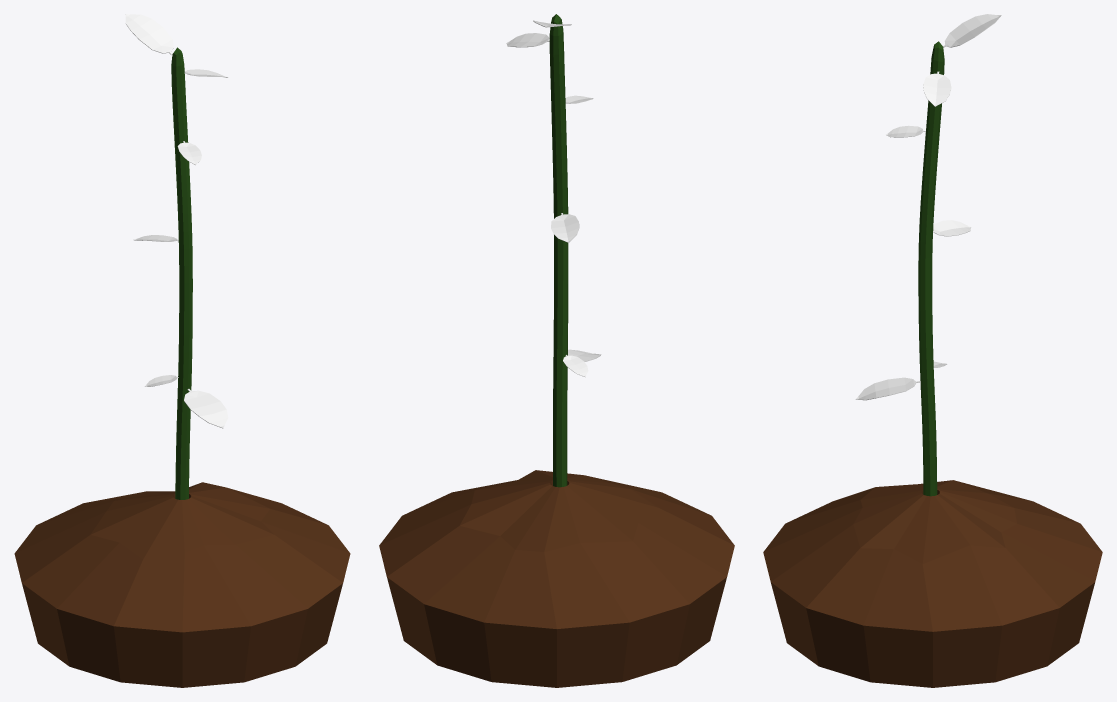
File: stage1.fbx
The picture shows the model from 3 angles, left to right: view 1: azimuth 30°, elevation 25°; view 2: azimuth 150°, elevation 25°; view 3: azimuth 270°, elevation 25°; orthographic projection. The views are drawn at different scales.
Visible parts, largest first — view 1: Stage1, Stage1.Leaves; view 2: Stage1, Stage1.Leaves; view 3: Stage1, Stage1.Leaves.
Part boxes in pixels (x1,y1,x2,y2): Stage1: (14, 47, 350, 687); Stage1.Leaves: (125, 14, 228, 428); Stage1: (379, 14, 734, 687); Stage1.Leaves: (506, 20, 601, 376); Stage1: (763, 41, 1102, 687); Stage1.Leaves: (855, 14, 1001, 400).
Size of the model in its own units: 35.52 by 69.25 by 35.72.
